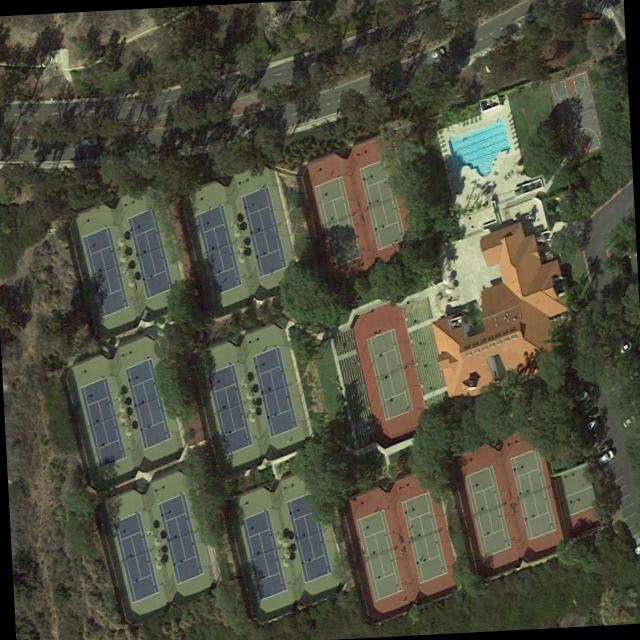small-vehicle: (597, 448, 615, 468), (619, 340, 633, 355), (528, 9, 541, 23), (586, 406, 599, 420), (574, 391, 589, 403), (623, 416, 636, 429), (587, 418, 601, 430), (597, 443, 609, 456), (629, 367, 640, 381), (432, 47, 446, 58), (80, 138, 98, 146), (634, 544, 640, 556)
